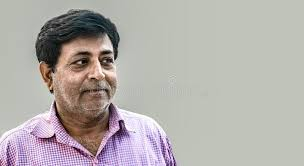Indian_Male: (53, 23, 121, 119)
